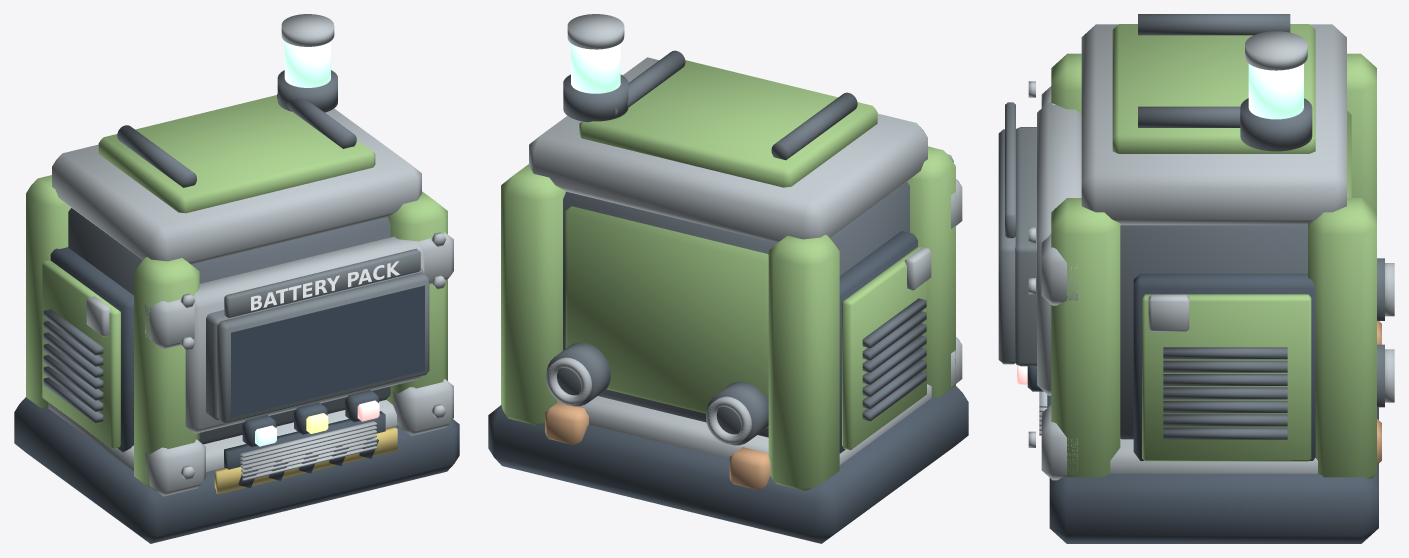
The model's file is battery_pack_ultra.glb.
3 renders of one model, left to right at view 1: azimuth 30°, elevation 25°; view 2: azimuth 150°, elevation 25°; view 3: azimuth 270°, elevation 25°, orthographic. The views are drawn at different scales.
Parts seen in each view (by area): view 1: TopCap_steel_legacy_10, Base_black_legacy_0, Frame_green_legacy_4, RoofPanel_green_legacy_11, LiveViewSurface_glass, Housing_dark_legacy_2, CornerGuard_steel_legacy_5, DisplayFrame_steel_legacy_13, ServiceDoor_green_legacy_7, LiveViewSurfaceFrame_frame, Detail_steel_legacy_24, SideVents_dark_legacy_8 (+13 smaller); view 2: Frame_green_legacy_4, Armor_green_legacy_3, Base_black_legacy_0, TopCap_steel_legacy_10, RoofPanel_green_legacy_11, Housing_dark_legacy_2, ServiceDoor_green_legacy_7, SideVents_dark_legacy_8, Skirt_steel_legacy_1, RearPort_dark_legacy_29, LiftRail_dark_legacy_12, RearPort_copper_legacy_31 (+7 smaller); view 3: Frame_green_legacy_4, TopCap_steel_legacy_10, Base_black_legacy_0, ServiceDoor_green_legacy_7, RoofPanel_green_legacy_11, Housing_dark_legacy_2, SideVents_dark_legacy_8, DisplayFrame_steel_legacy_13, SidePanel_black_legacy_6, LiftRail_dark_legacy_12, ScreenMount_frame, CornerGuard_steel_legacy_5 (+10 smaller).
Part boxes in pixels (x1,y1,x2,y2): TopCap_steel_legacy_10: (52,108,421,264); Base_black_legacy_0: (14,397,459,543); Frame_green_legacy_4: (26,175,447,491); RoofPanel_green_legacy_11: (98,95,375,213); LiveViewSurface_glass: (231,285,424,417); Housing_dark_legacy_2: (68,208,390,444); CornerGuard_steel_legacy_5: (145,232,453,496); DisplayFrame_steel_legacy_13: (185,236,424,433); ServiceDoor_green_legacy_7: (42,260,120,449); LiveViewSurfaceFrame_frame: (217,272,429,423); Detail_steel_legacy_24: (180,232,446,480); SideVents_dark_legacy_8: (43,309,103,422); Frame_green_legacy_4: (501,146,955,490); Armor_green_legacy_3: (565,206,768,428); Base_black_legacy_0: (488,386,968,543); TopCap_steel_legacy_10: (529,57,927,242); RoofPanel_green_legacy_11: (579,60,877,187); Housing_dark_legacy_2: (563,182,909,437); ServiceDoor_green_legacy_7: (842,246,926,450); SideVents_dark_legacy_8: (862,298,926,421); Skirt_steel_legacy_1: (557,384,931,464); RearPort_dark_legacy_29: (546,342,768,445); LiftRail_dark_legacy_12: (615,50,857,160); RearPort_copper_legacy_31: (545,402,770,490); Frame_green_legacy_4: (1051,53,1376,478); TopCap_steel_legacy_10: (1081,24,1346,225); Base_black_legacy_0: (1049,407,1378,543); ServiceDoor_green_legacy_7: (1142,294,1311,461); RoofPanel_green_legacy_11: (1112,24,1315,153); Housing_dark_legacy_2: (1120,225,1307,439); SideVents_dark_legacy_8: (1163,347,1287,439); DisplayFrame_steel_legacy_13: (1037,102,1081,395); SidePanel_black_legacy_6: (1133,273,1315,460); LiftRail_dark_legacy_12: (1138,14,1290,127); ScreenMount_frame: (1015,127,1036,366); CornerGuard_steel_legacy_5: (1041,86,1077,480).
Bounding box in the file's own units: 1.43 × 1.65 × 1.27.
